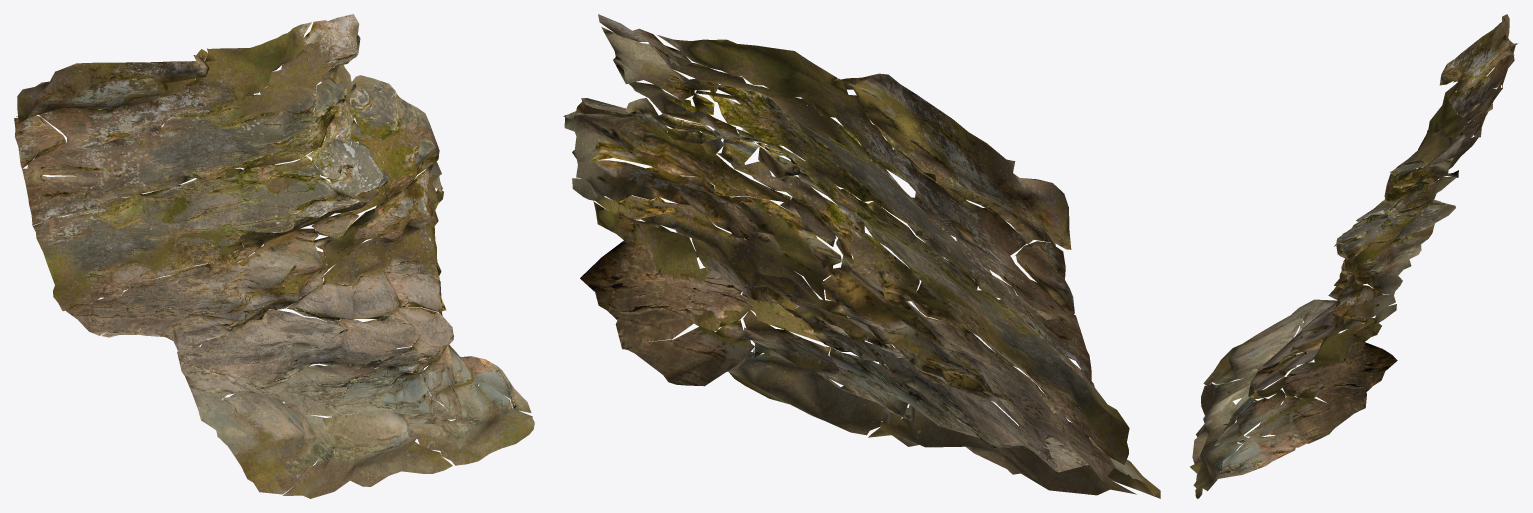
The picture shows the model from 3 angles, left to right: view 1: azimuth 30°, elevation 25°; view 2: azimuth 150°, elevation 25°; view 3: azimuth 270°, elevation 25°; orthographic projection. The views are drawn at different scales.
Visible parts, largest first — view 1: pr_face_b_LOD0; view 2: pr_face_b_LOD0; view 3: pr_face_b_LOD0.
Part boxes in pixels (x1,y1,x2,y2): pr_face_b_LOD0: [14, 14, 534, 498]; pr_face_b_LOD0: [563, 14, 1160, 498]; pr_face_b_LOD0: [1190, 14, 1517, 498].
Size of what is drawn, in the model's own units: 2.72 by 2.49 by 2.14.
